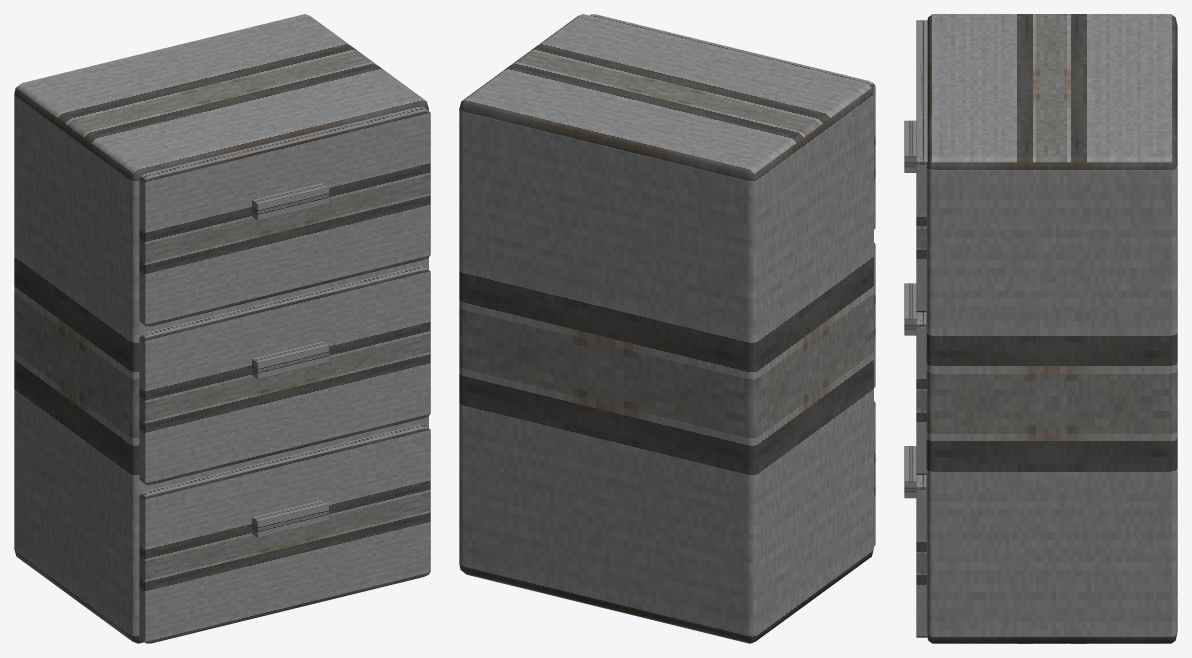
Rendered from fill-cabinet.glb.
3 renders of one model, left to right at view 1: azimuth 30°, elevation 25°; view 2: azimuth 150°, elevation 25°; view 3: azimuth 270°, elevation 25°, orthographic. The views are drawn at different scales.
Visible parts, largest first — view 1: front (×3), case, pull (×3); view 2: case, front; view 3: case, front (×3), pull (×3).
Part boxes in pixels (box(x1,y1,x2,y2)): front (×3): box(139, 107, 430, 643); case: box(14, 14, 428, 643); pull (×3): box(252, 183, 328, 537); case: box(459, 14, 873, 643); front: box(590, 14, 875, 229); case: box(926, 14, 1177, 643); front (×3): box(916, 20, 927, 637); pull (×3): box(904, 120, 916, 498).
Size of the model in its own units: 0.88 by 1.34 by 0.68.
Materials: 1 (1 with a texture image).
